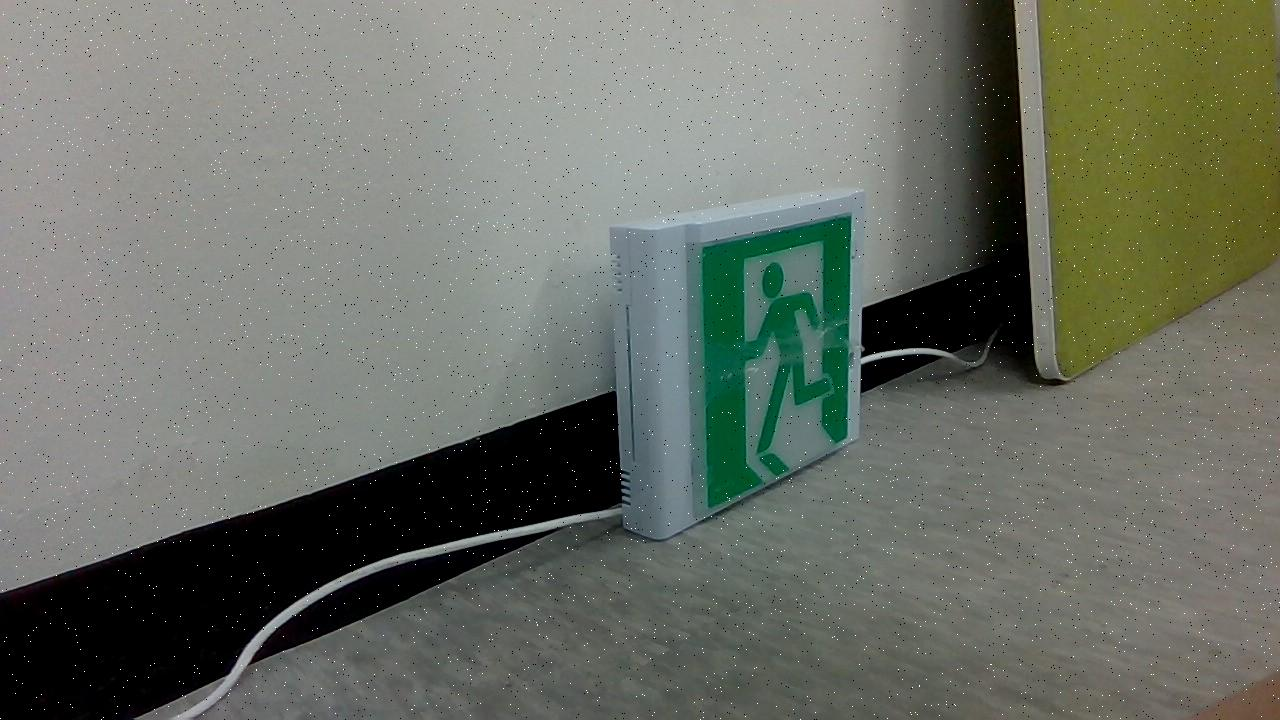emergency_exit: (608, 189, 866, 542)
